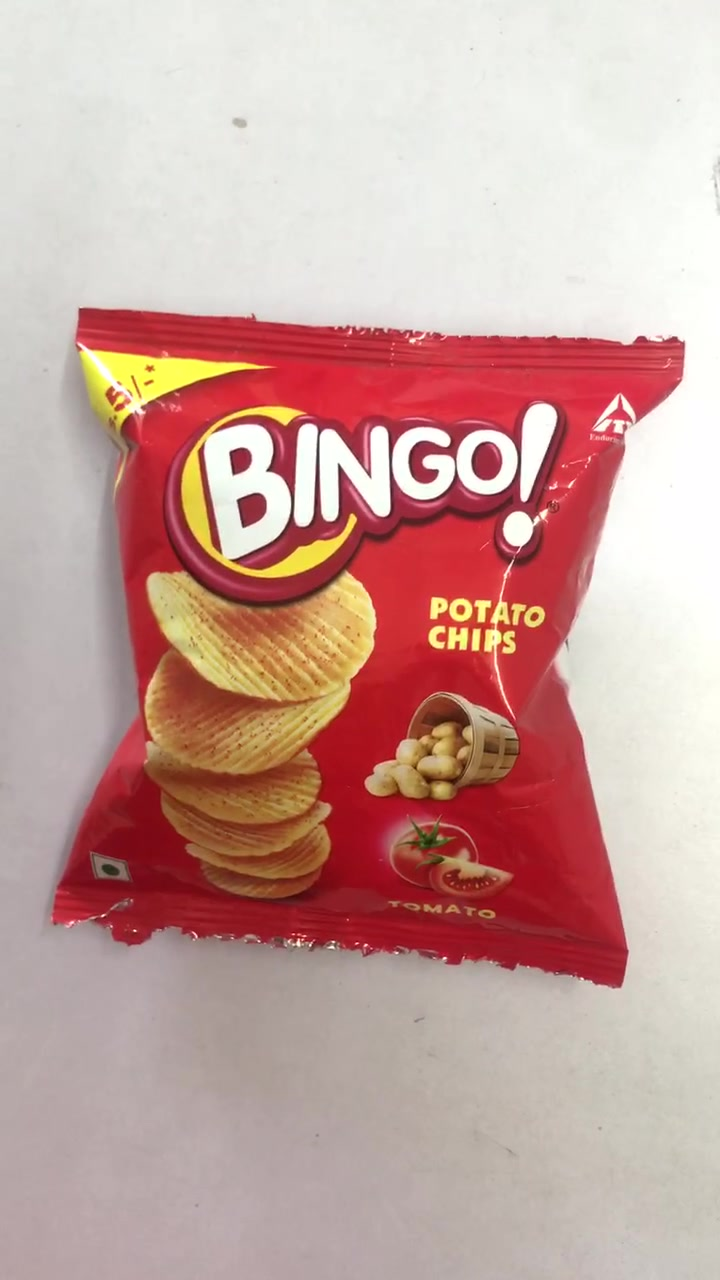Bingo: (78, 310, 684, 987)
